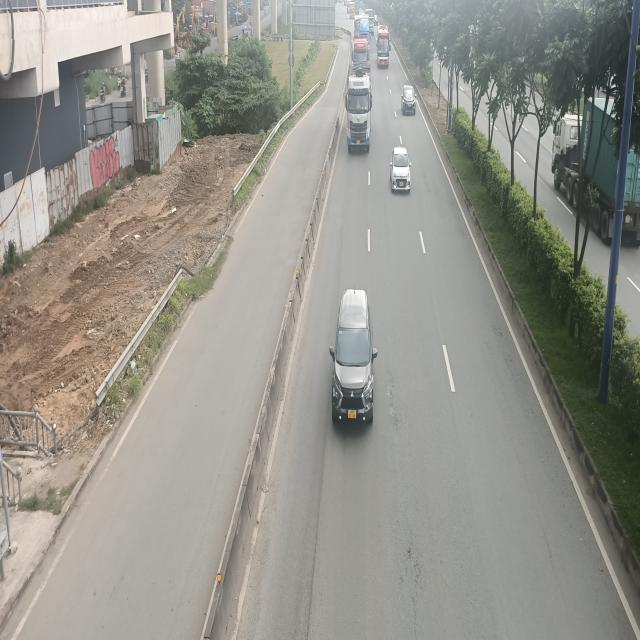car: (330, 290, 377, 424), (389, 146, 411, 192)
coach: (377, 26, 391, 70)
truck: (346, 70, 372, 153)
